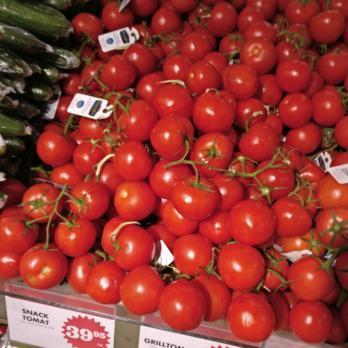Tomato: (166, 0, 348, 337), (75, 4, 177, 311), (0, 176, 81, 287)
